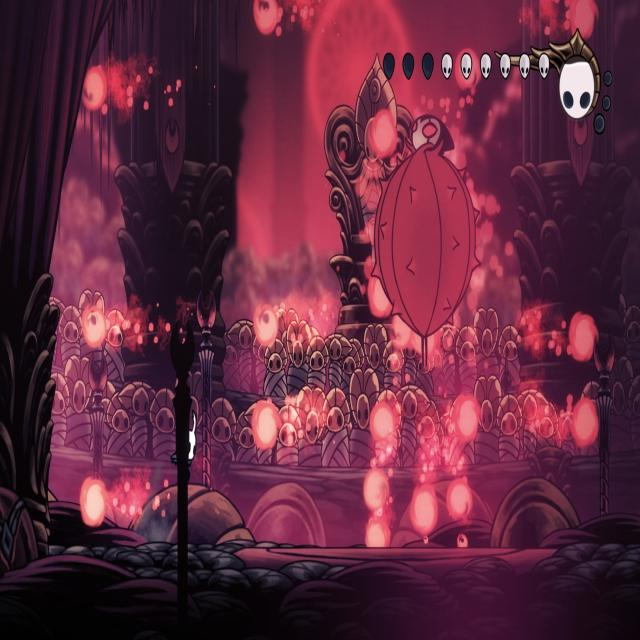Player: (170, 408, 199, 487)
Pufferfish: (367, 110, 488, 381)
Tiny Fireballs: (368, 111, 398, 163), (572, 399, 600, 450), (252, 401, 280, 451), (569, 315, 597, 364), (410, 487, 438, 536), (80, 478, 106, 526), (81, 68, 108, 114), (453, 396, 478, 442), (361, 468, 387, 512), (368, 273, 392, 317), (369, 402, 396, 441), (569, 0, 596, 39), (255, 303, 278, 347), (83, 305, 106, 348), (447, 478, 471, 517), (253, 0, 279, 35), (365, 518, 390, 548)
